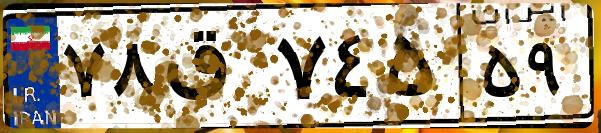4: (330, 28, 385, 110)
5: (385, 28, 445, 110), (475, 38, 525, 113)
7: (270, 28, 330, 110), (57, 26, 110, 100)
8: (110, 28, 158, 98)
9: (525, 38, 570, 115)
ق: (158, 20, 270, 120)
